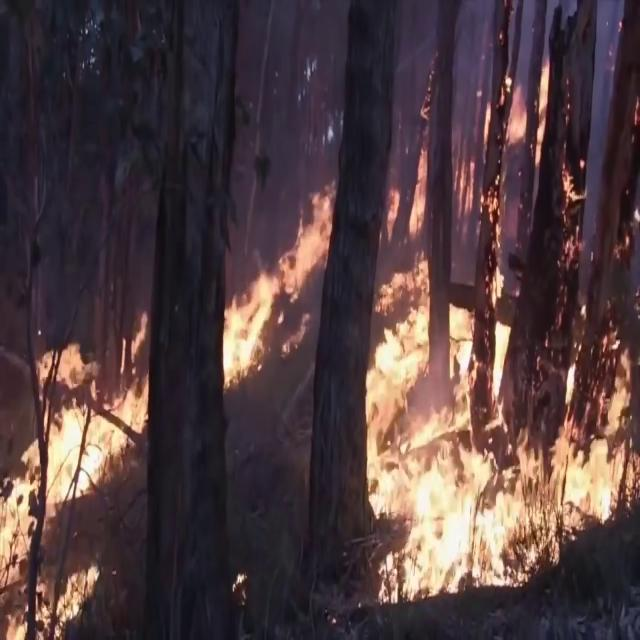Fire: (360, 61, 640, 610), (0, 362, 142, 636), (218, 164, 340, 378)
